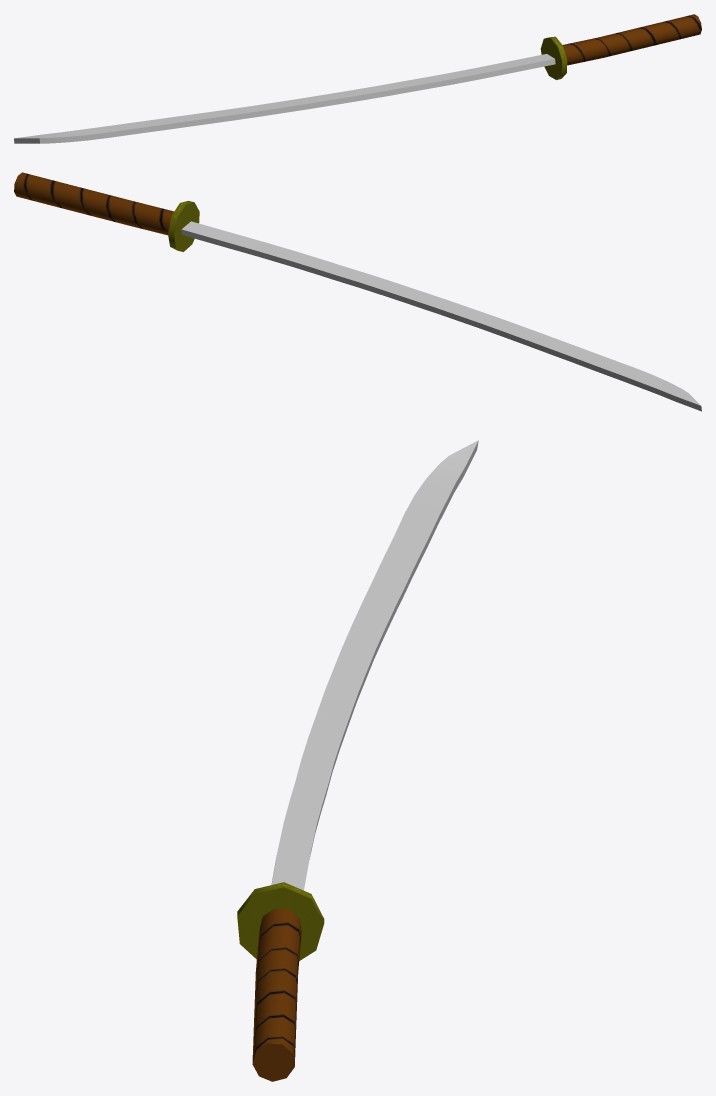
File: Katana.FBX
3 renders of one model, top to bottom at view 1: azimuth 30°, elevation 25°; view 2: azimuth 150°, elevation 25°; view 3: azimuth 270°, elevation 25°, orthographic. The views are drawn at different scales.
Parts seen in each view (by area): view 1: pasted__polySurface5; view 2: pasted__polySurface5; view 3: pasted__polySurface5.
Part boxes in pixels (x1=…): pasted__polySurface5: x1=14, y1=14, x2=701, y2=143; pasted__polySurface5: x1=14, y1=172, x2=701, y2=411; pasted__polySurface5: x1=237, y1=440, x2=478, y2=1081.
Size of the model in its own units: 0.3669 by 0.0219 by 0.0607.
